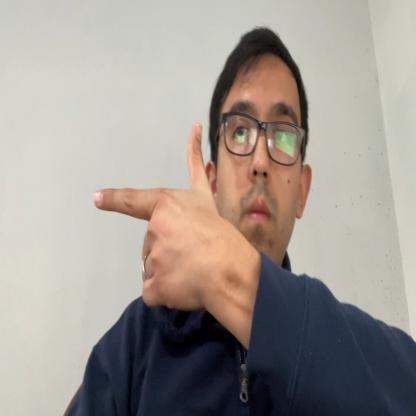G: (94, 121, 209, 312)
